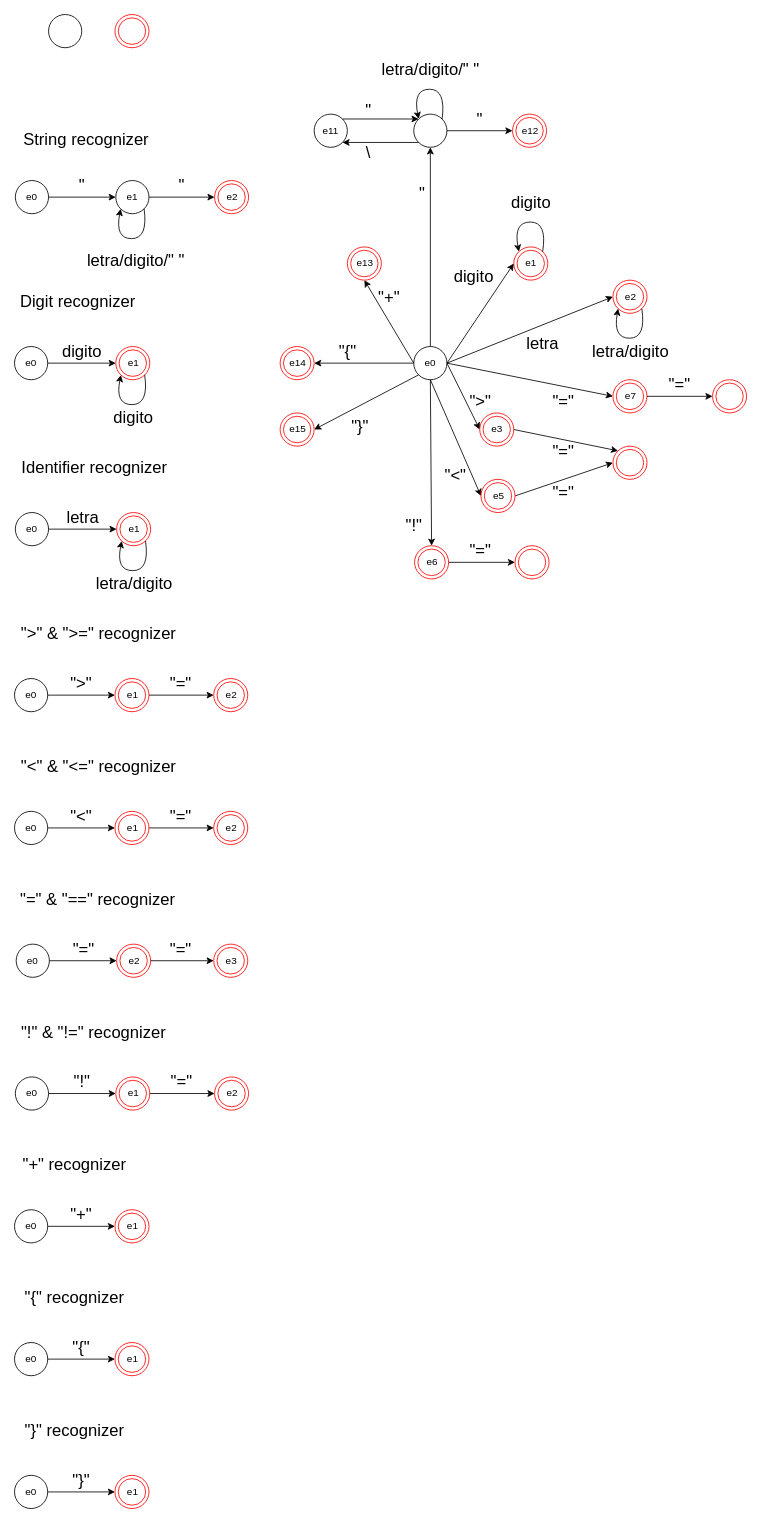
This 761x1523 diagram has some shape labels left out. Each missing label, with the centre of its shape:
"e10" belongs at [430,130].
"e4" belongs at [629,462].
"e8" belongs at [729,396].
"e9" belongs at [531,562].
